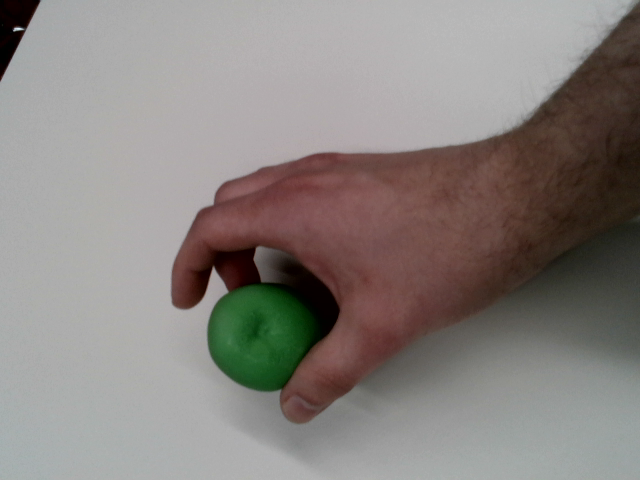green apple: (185, 257, 334, 406)
